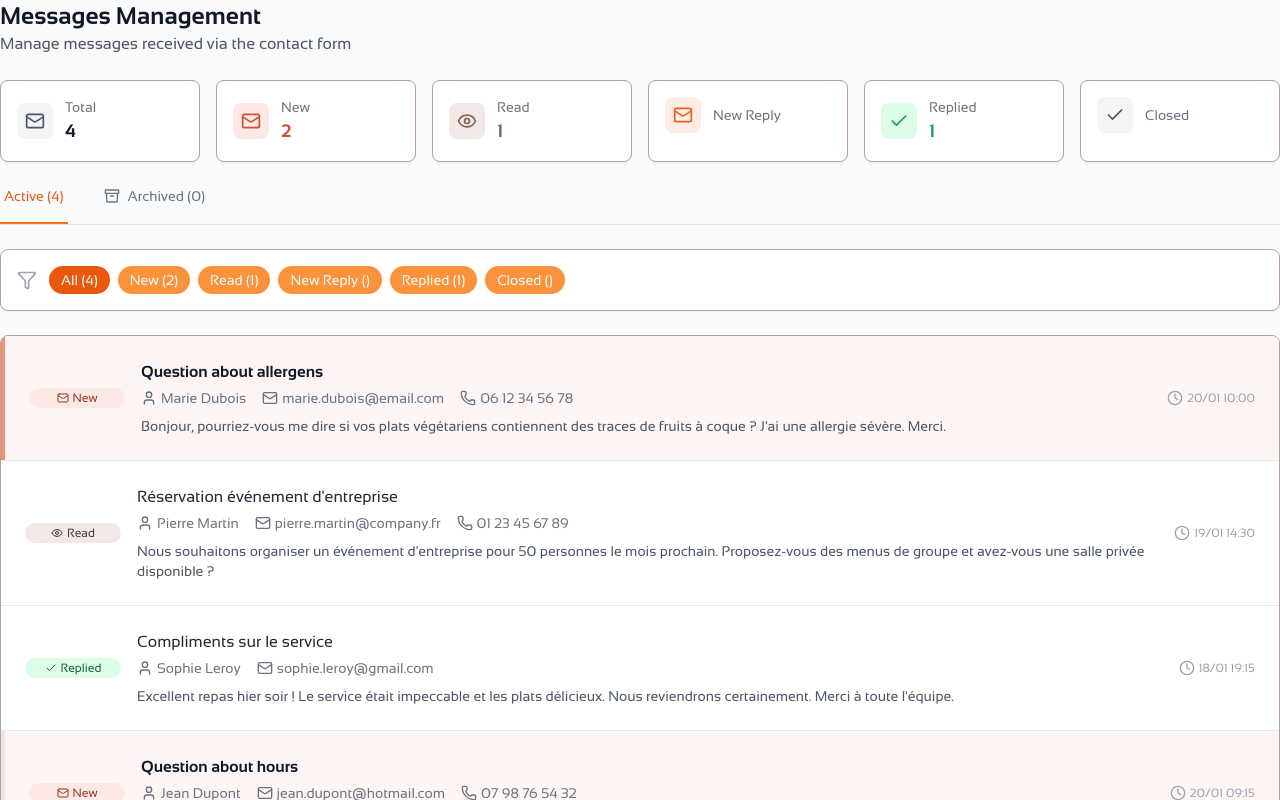
Scenario: ContactsManagement Component › Modal Functionality › should close modal with X button
Click the text "Question about allergens".
click(640, 398)  # box [1, 336, 1279, 460]
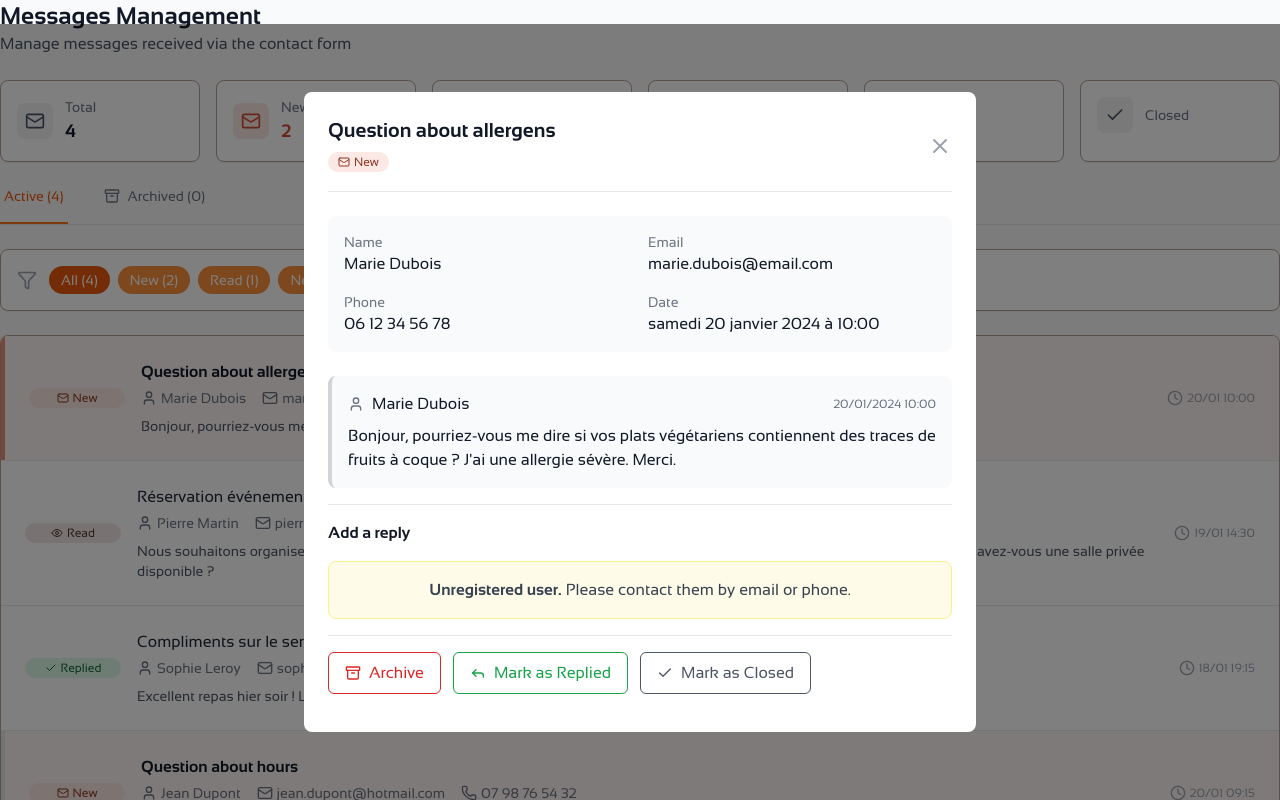
Expected: the text "Name" is shown, [344, 234, 383, 250]
Expected: the text "Email" is shown, [648, 234, 684, 250]
Expected: the 1st button is shown
Click the 1st button.
click(940, 146)  # box [928, 134, 952, 158]
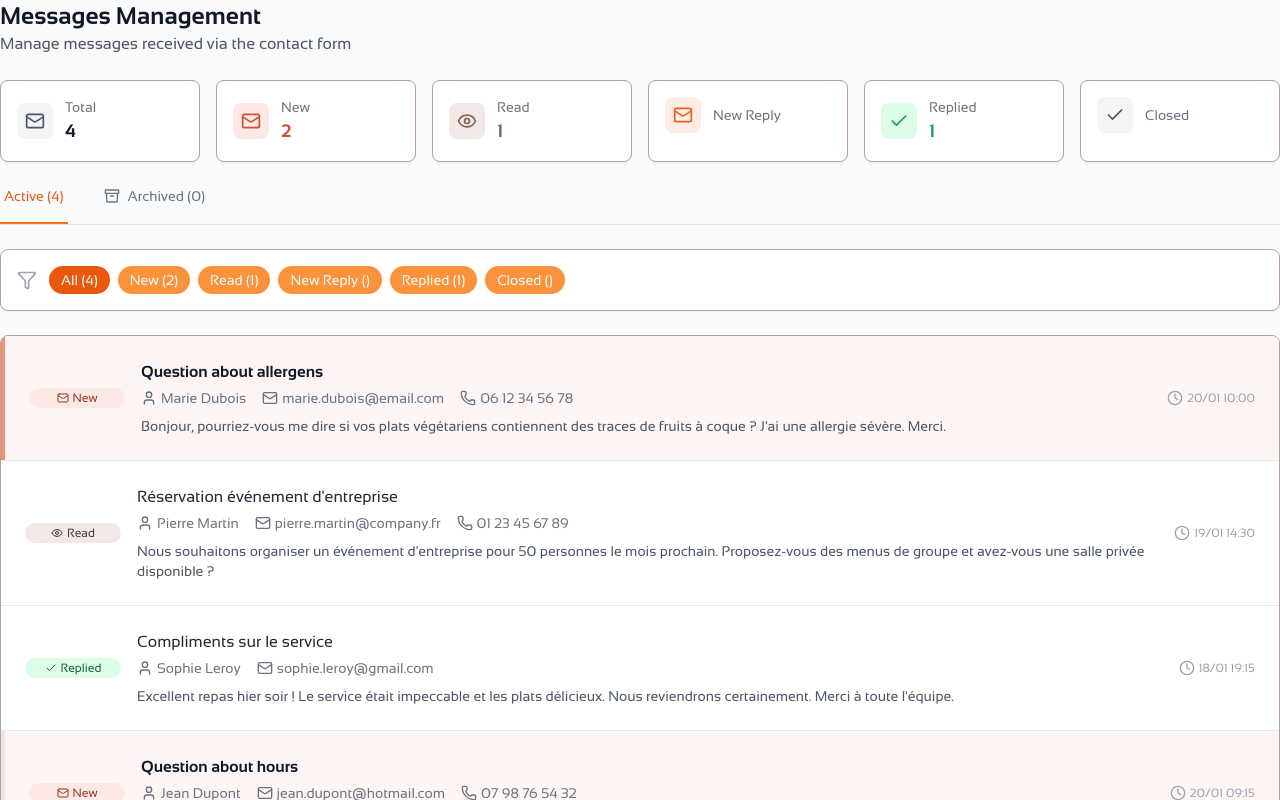
Expected: the text "Date" is gone
